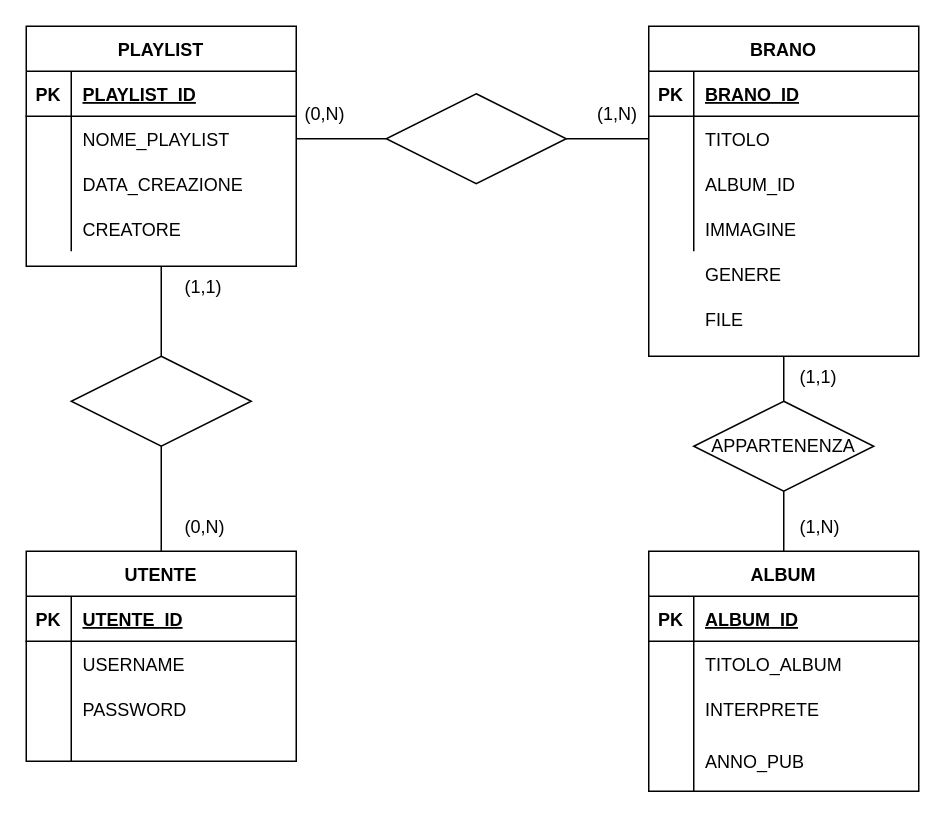
Some shapes in this 945 by 818 pixel diagram are drawn without their labels. Here are the shapes that lost their labels. From the top down, the centre of each, then its label:
point 475,138: CONTENIMENTO
point 160,400: CREAZIONE
